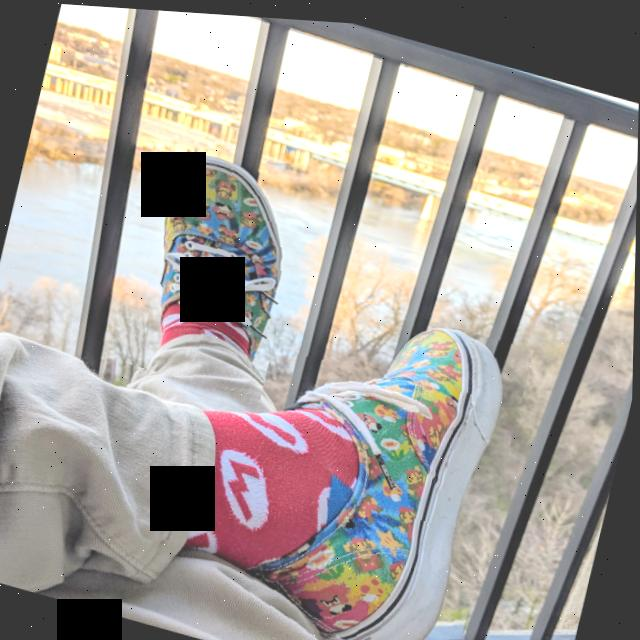shoe: (231, 279, 535, 640), (116, 130, 314, 399)
